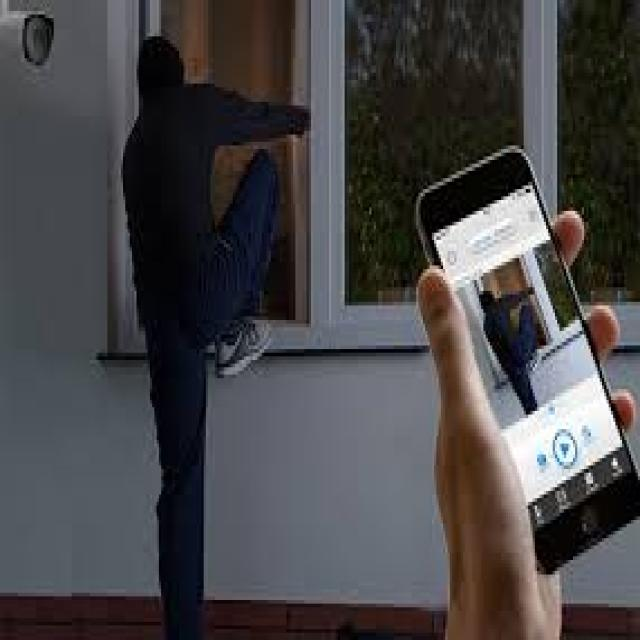intrusion detected: (120, 36, 310, 638)
